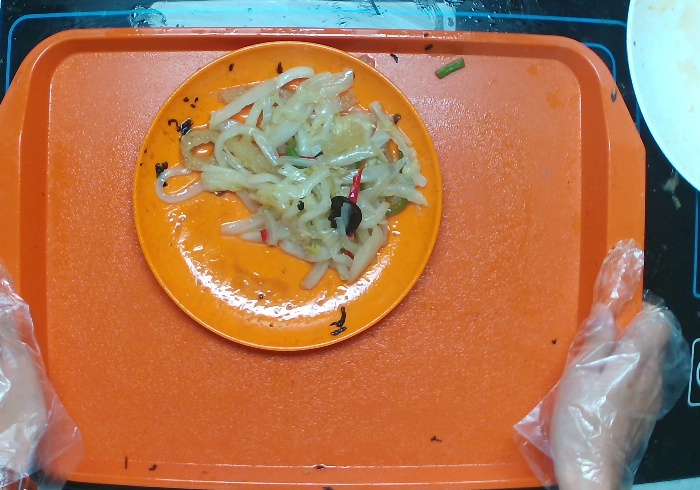HZYJPL-Ju_Huang_Yuan_Pan: (127, 38, 442, 353)
